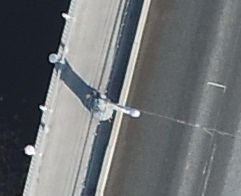opora: (69, 69, 140, 128)
